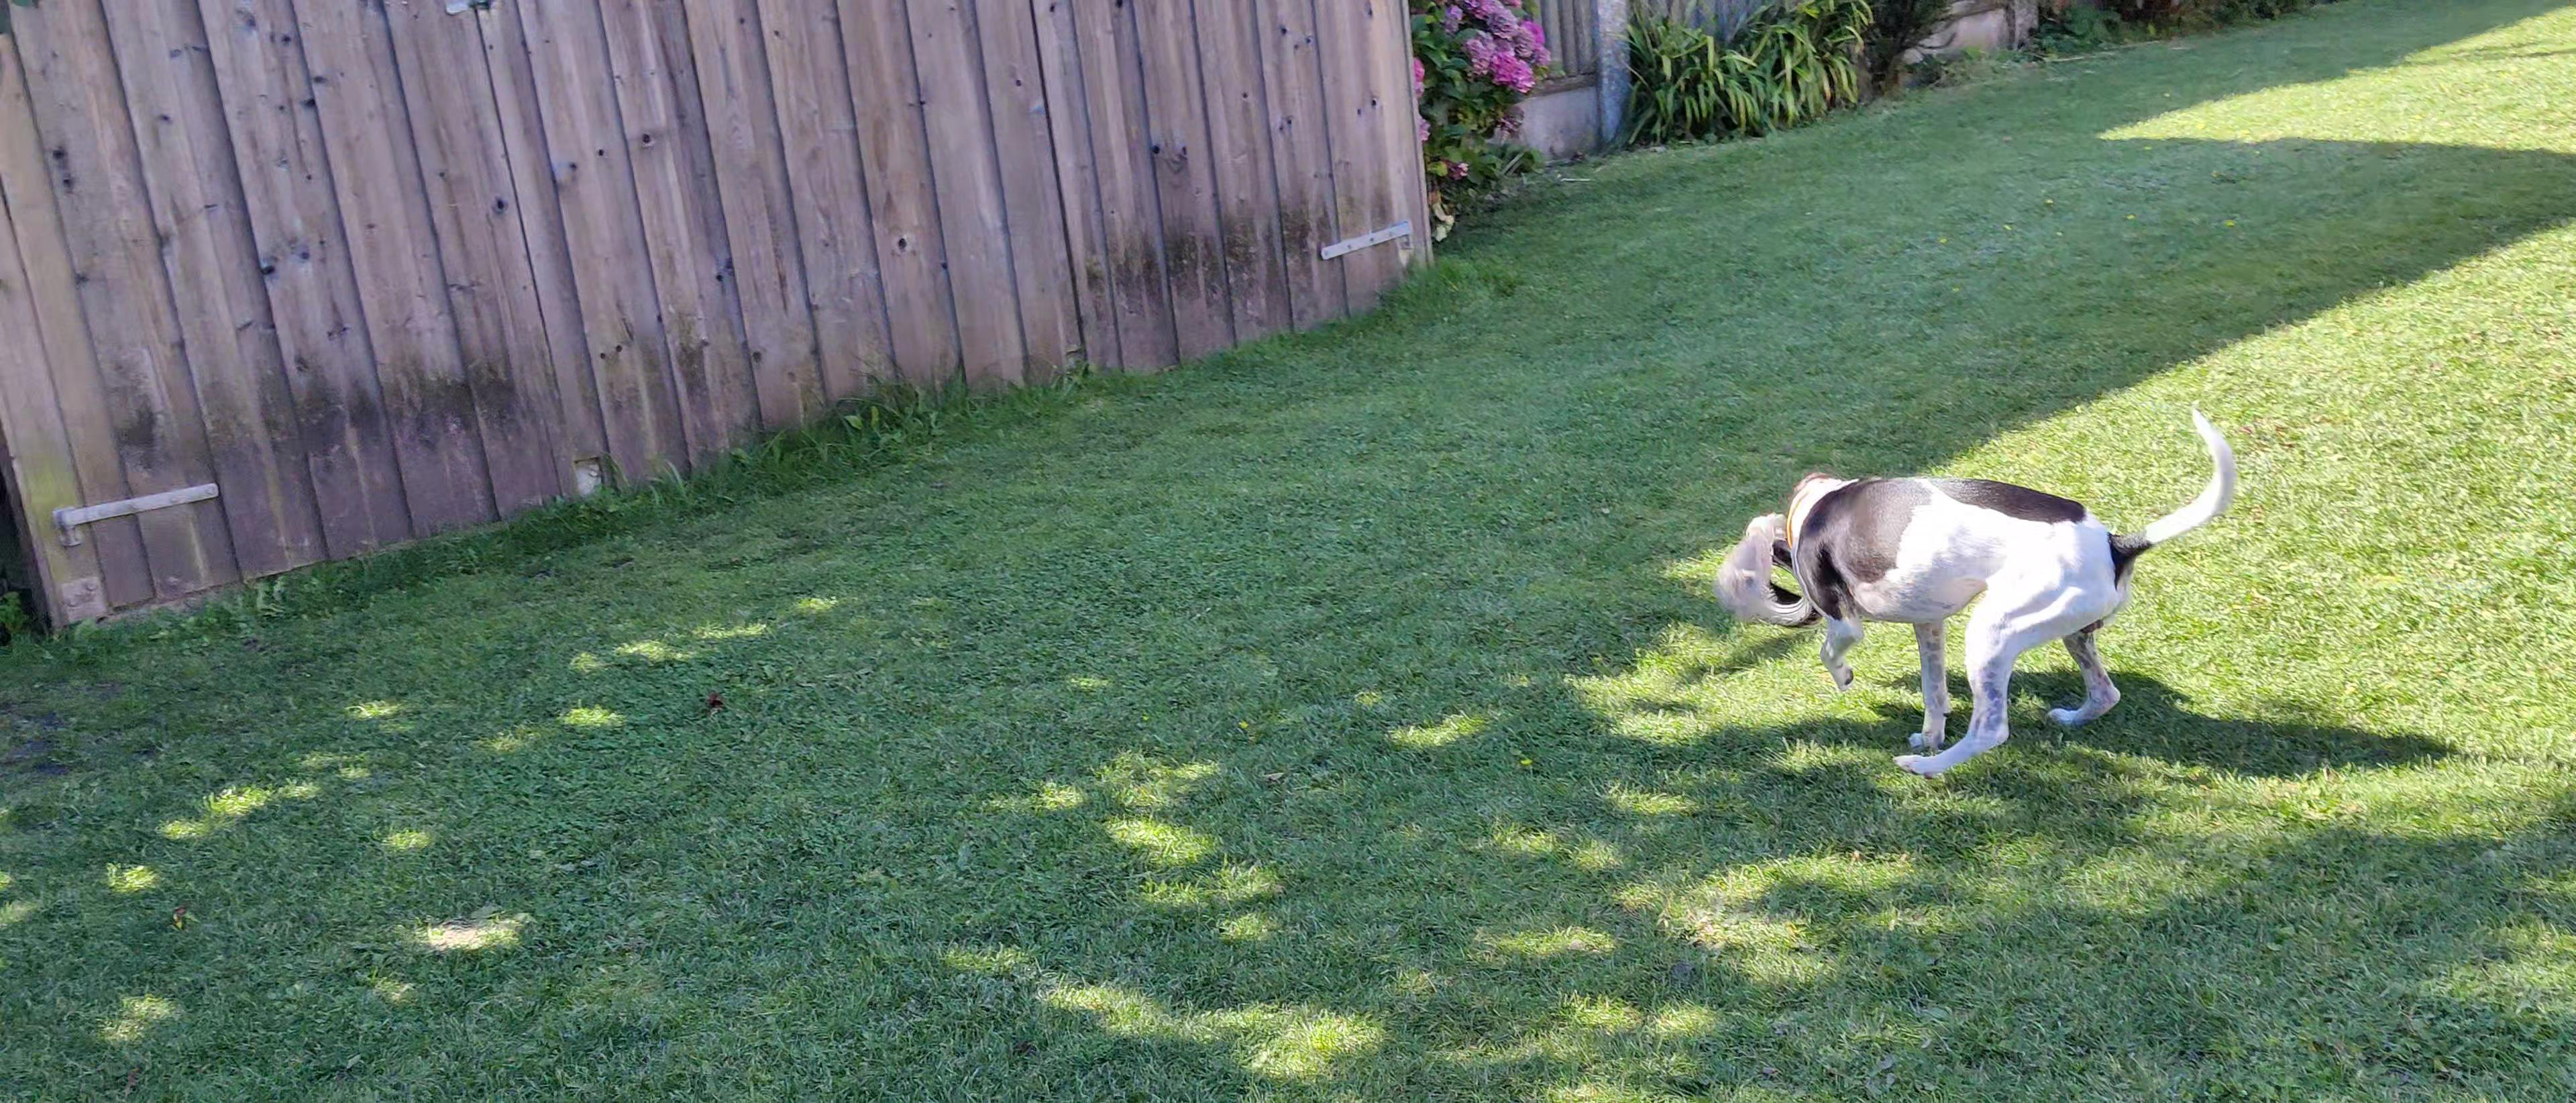Dog: (1758, 380, 2249, 789)
